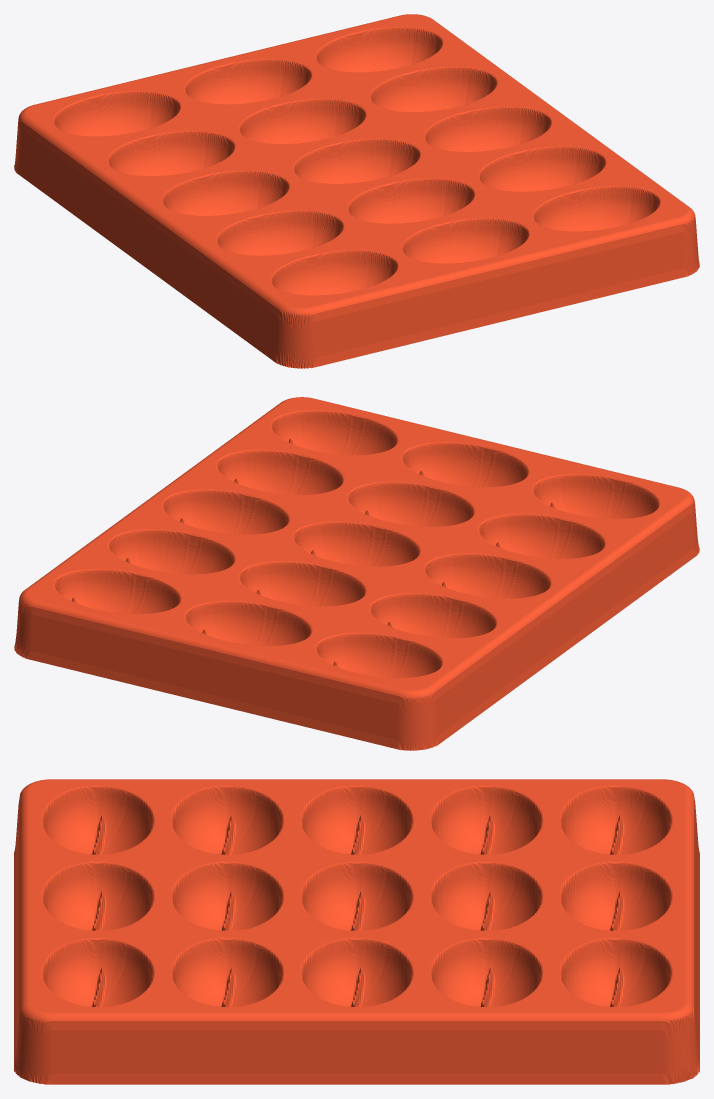
The model's file is mold.glb.
3 views of the same model, one above another, from view 1: azimuth 30°, elevation 25°; view 2: azimuth 150°, elevation 25°; view 3: azimuth 270°, elevation 25° (orthographic). The views are drawn at different scales.
Visible parts, largest first — view 1: geometry_0; view 2: geometry_0; view 3: geometry_0.
Boxes of the visible parts, bbox=[...] form: geometry_0: bbox=[14, 14, 699, 368]; geometry_0: bbox=[14, 397, 699, 750]; geometry_0: bbox=[14, 779, 699, 1084].
Size of the model in its own units: 0.1392 by 0.0175 by 0.1647.
